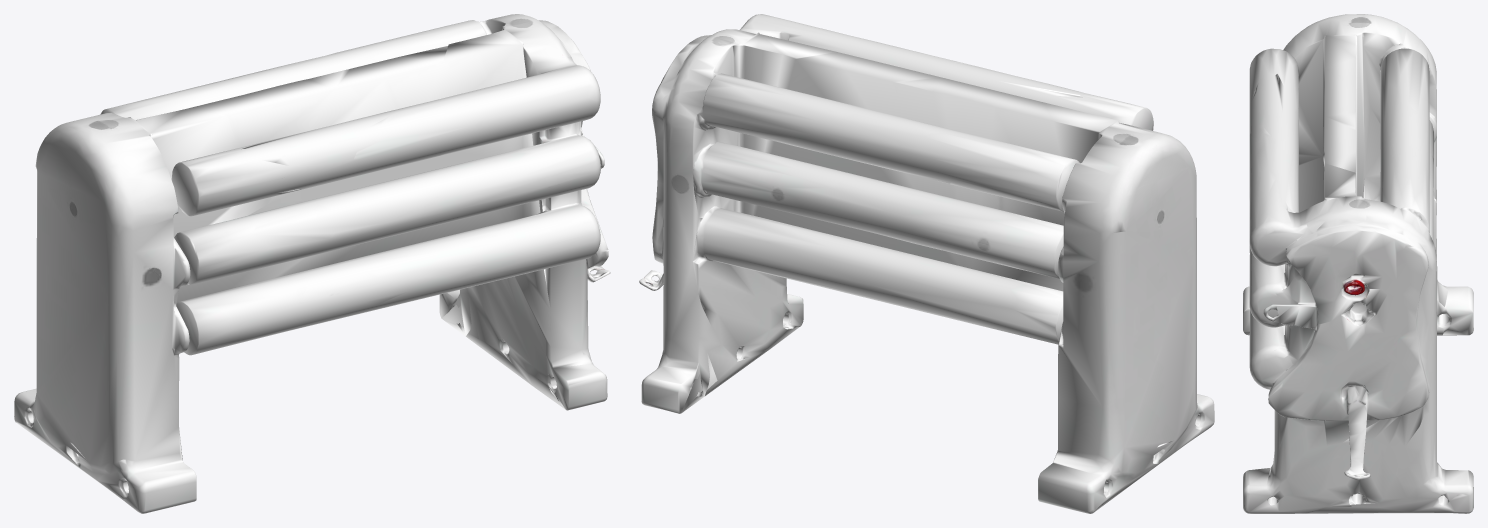
The model's file is guardrail.glb.
3 renders of one model, left to right at view 1: azimuth 30°, elevation 25°; view 2: azimuth 150°, elevation 25°; view 3: azimuth 270°, elevation 25°, orthographic. The views are drawn at different scales.
Bounding box in the file's own units: 1.91 × 1.16 × 0.8019.
Materials: 1 (1 with a texture image).
